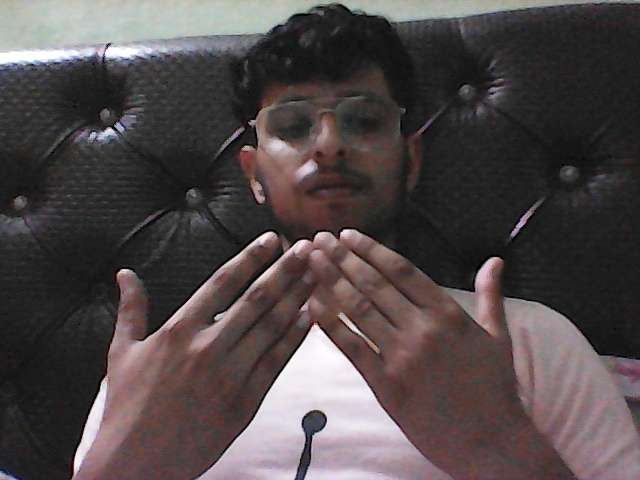thankyou: (45, 232, 579, 474)
